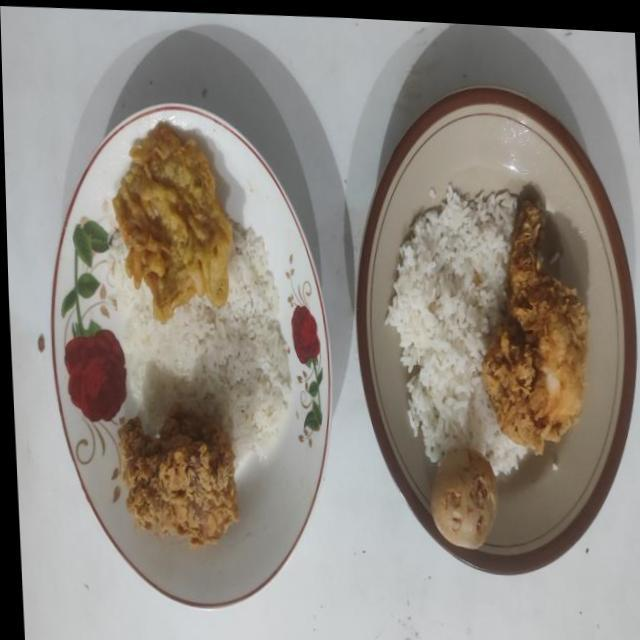nasi_putih: (106, 217, 292, 466), (385, 184, 526, 475)
